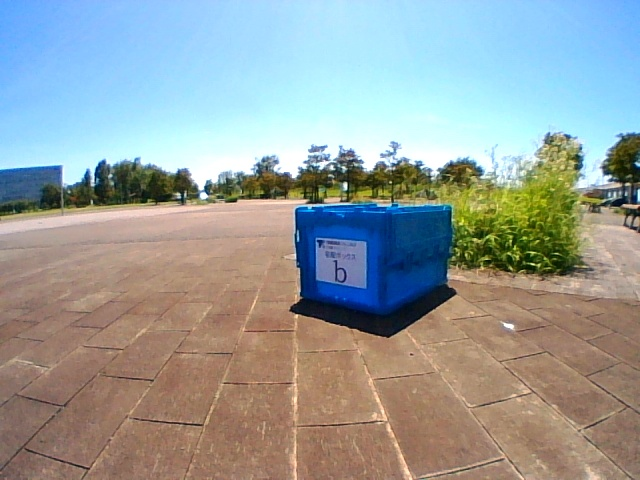blue_box: (296, 204, 446, 286)
tag_b: (319, 242, 365, 283)
